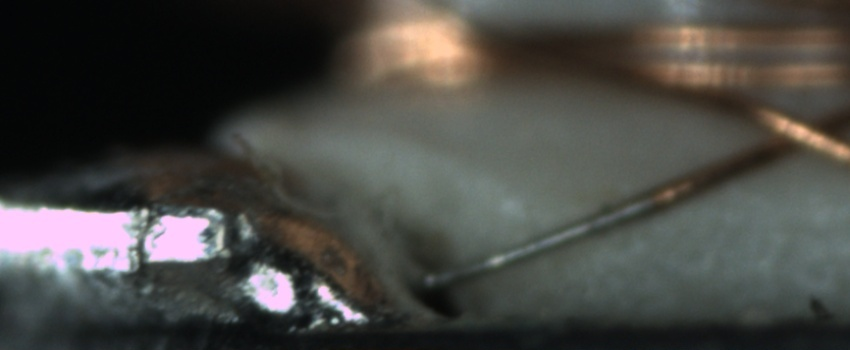CL: (749, 104, 842, 169)
DL: (652, 199, 850, 260)
TS: (419, 192, 656, 293)
